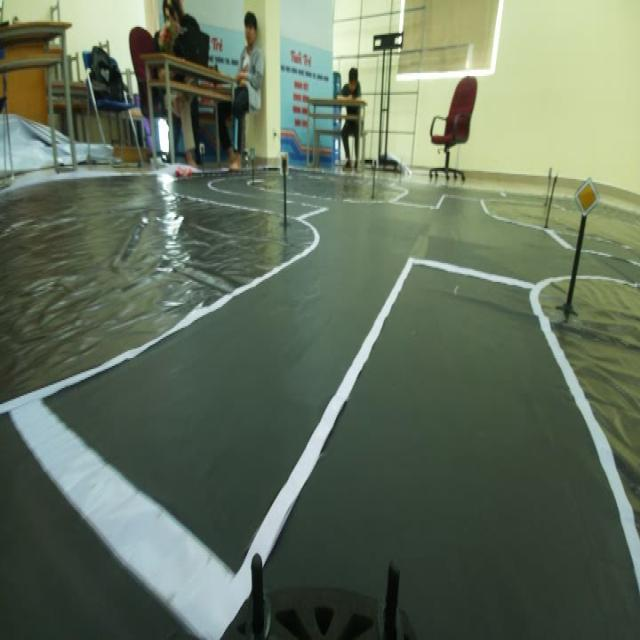priority: (571, 171, 601, 220)
